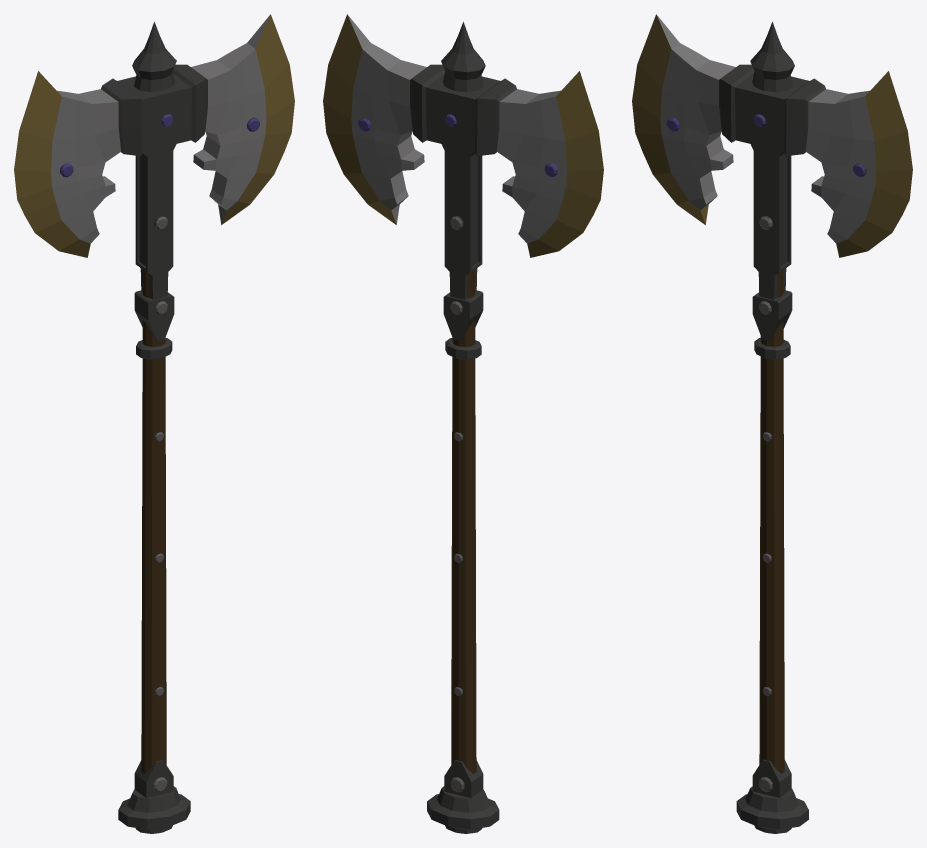
The model's file is great-axe.glb.
3 renders of one model, left to right at view 1: azimuth 30°, elevation 25°; view 2: azimuth 150°, elevation 25°; view 3: azimuth 330°, elevation 25°, orthographic.
Visible parts, largest first — view 1: Great Axe (Low-Poly Axes Pack) Proxy Games; view 2: Great Axe (Low-Poly Axes Pack) Proxy Games; view 3: Great Axe (Low-Poly Axes Pack) Proxy Games.
Part boxes in pixels (left/top/right/bottom): Great Axe (Low-Poly Axes Pack) Proxy Games: left=14, top=14, right=294, bottom=833; Great Axe (Low-Poly Axes Pack) Proxy Games: left=323, top=14, right=603, bottom=833; Great Axe (Low-Poly Axes Pack) Proxy Games: left=632, top=14, right=912, bottom=833.
Bounding box in the file's own units: 0.6651 × 1.83 × 0.124.
